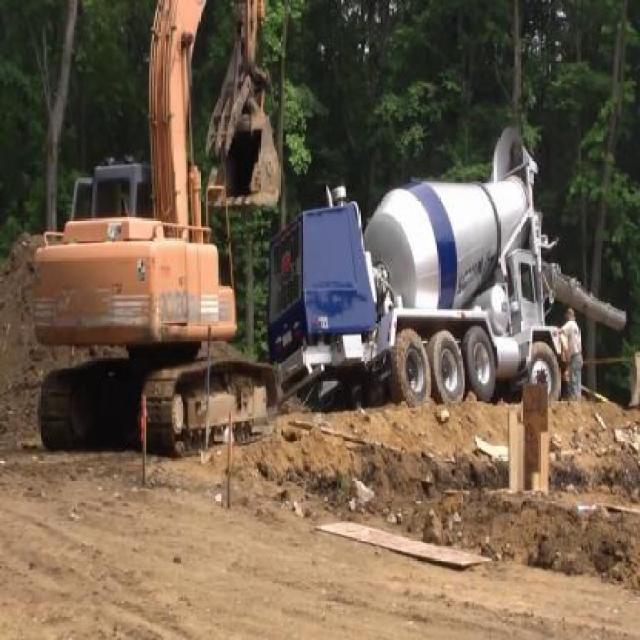excavator: (30, 0, 281, 455)
